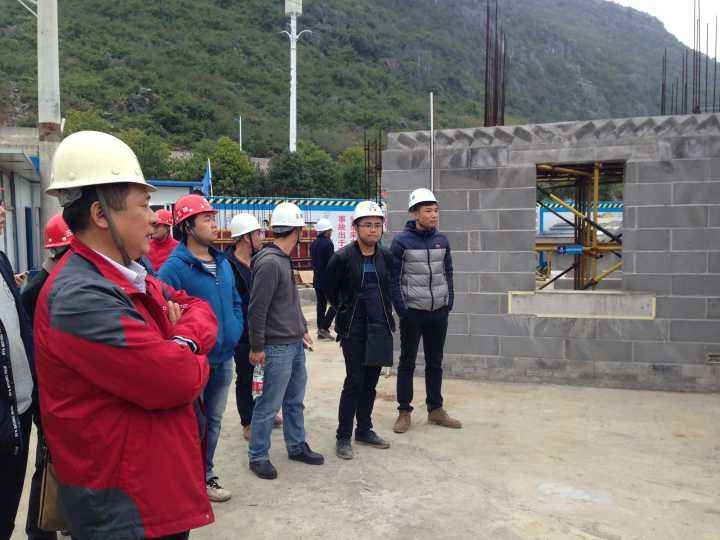red: (173, 189, 219, 245), (149, 206, 171, 239)
white: (44, 125, 155, 254), (266, 197, 306, 250), (350, 198, 384, 248), (406, 184, 441, 232), (227, 211, 265, 253), (312, 214, 333, 240)
